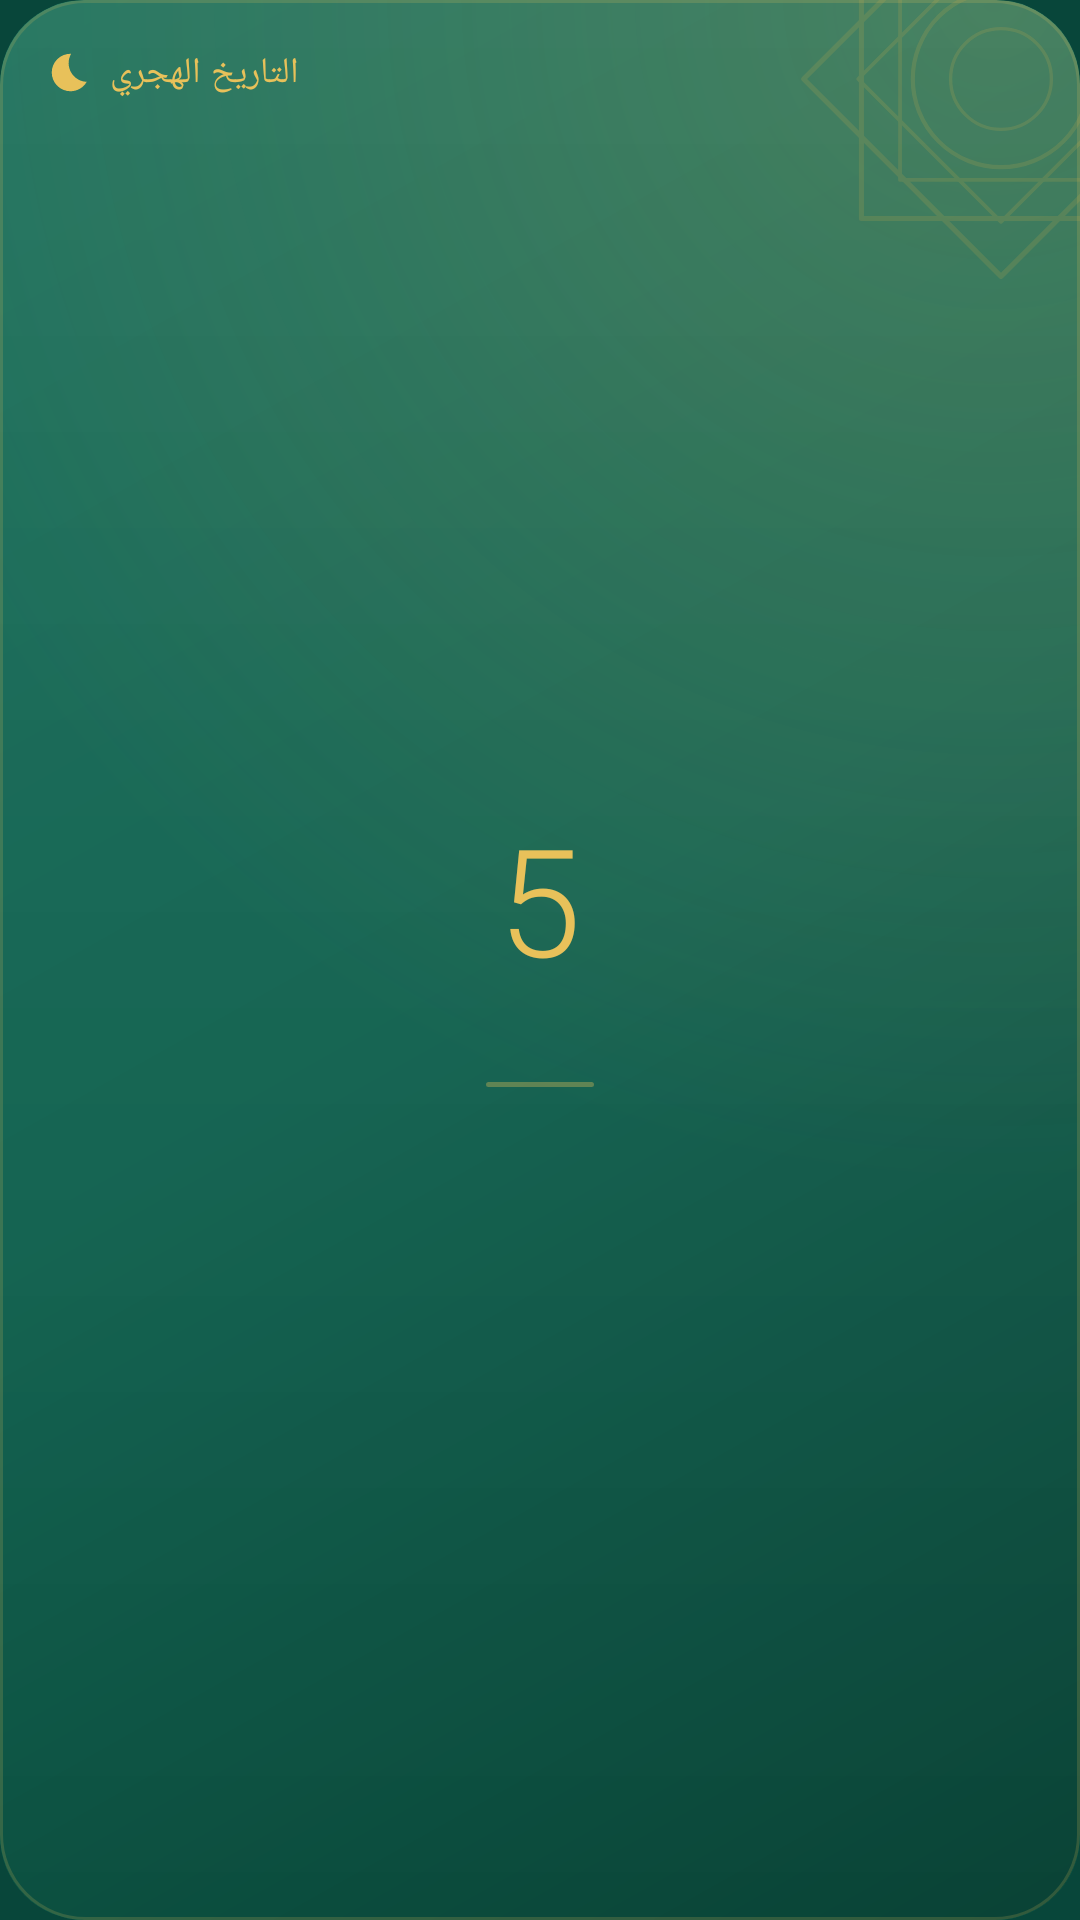

Where to tap for icons on this 1080x1920 app screen, as [x,y]:
moon: [69,72]
